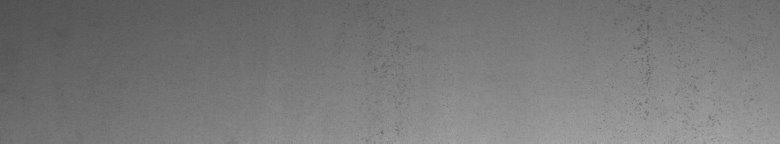ib: (631, 5, 715, 124)
